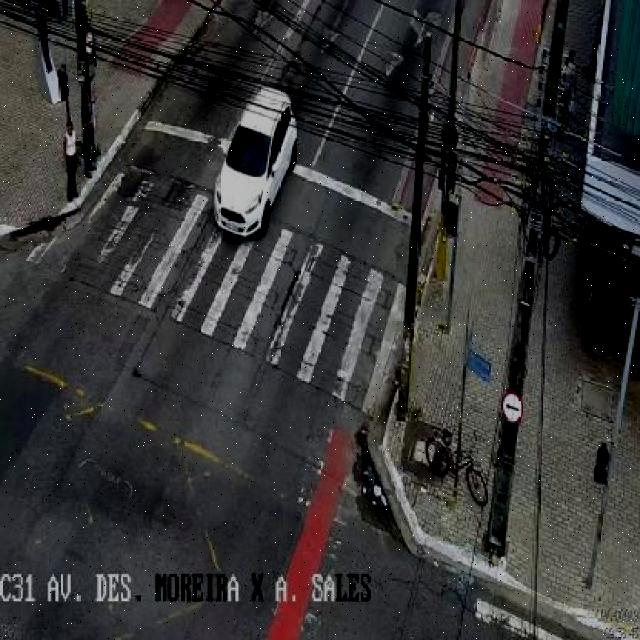Car: (209, 82, 306, 242)
Cycle: (421, 423, 496, 512)
